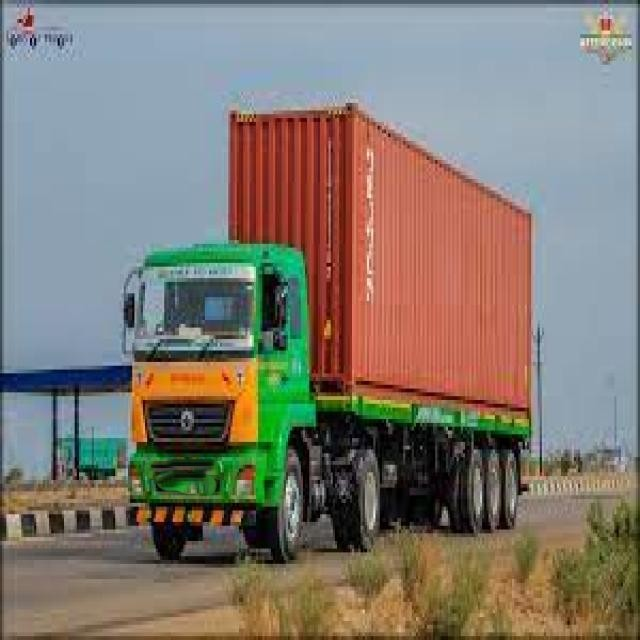truck: (125, 103, 529, 563)
